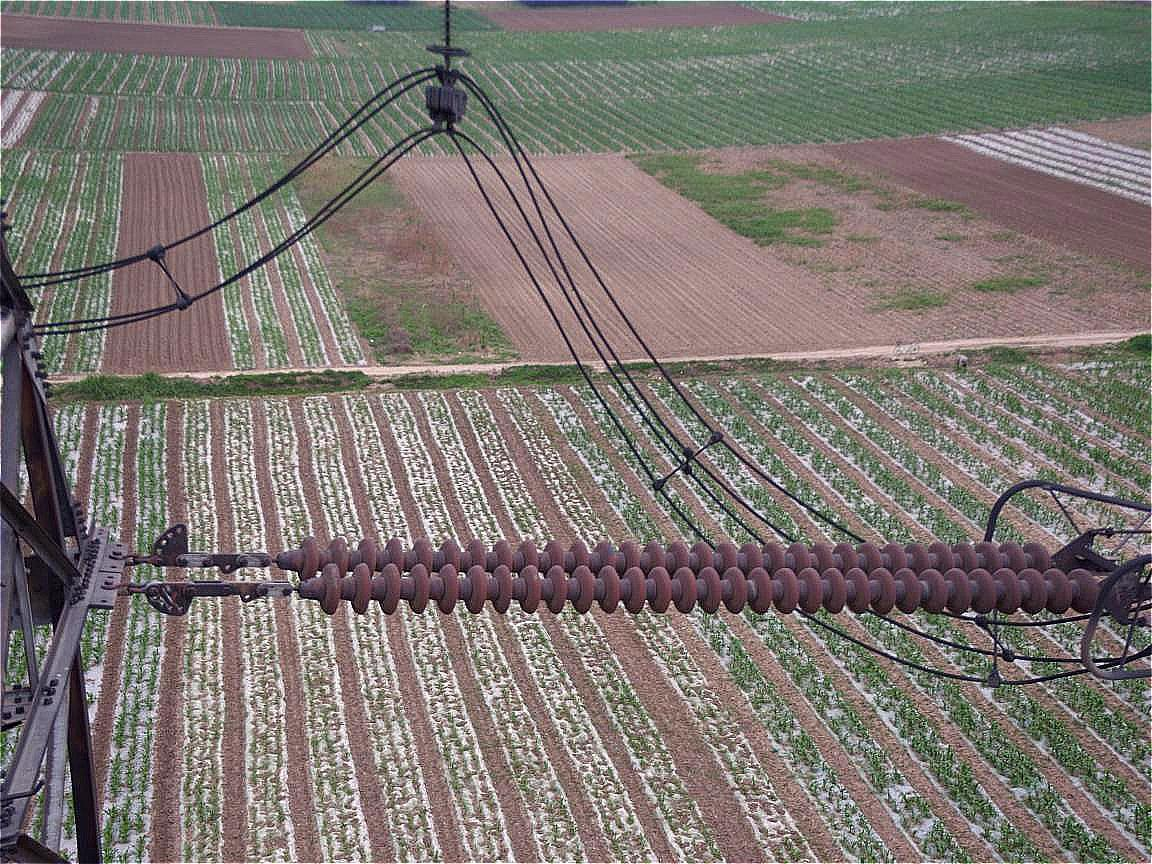insultor1: (296, 532, 1103, 617)
